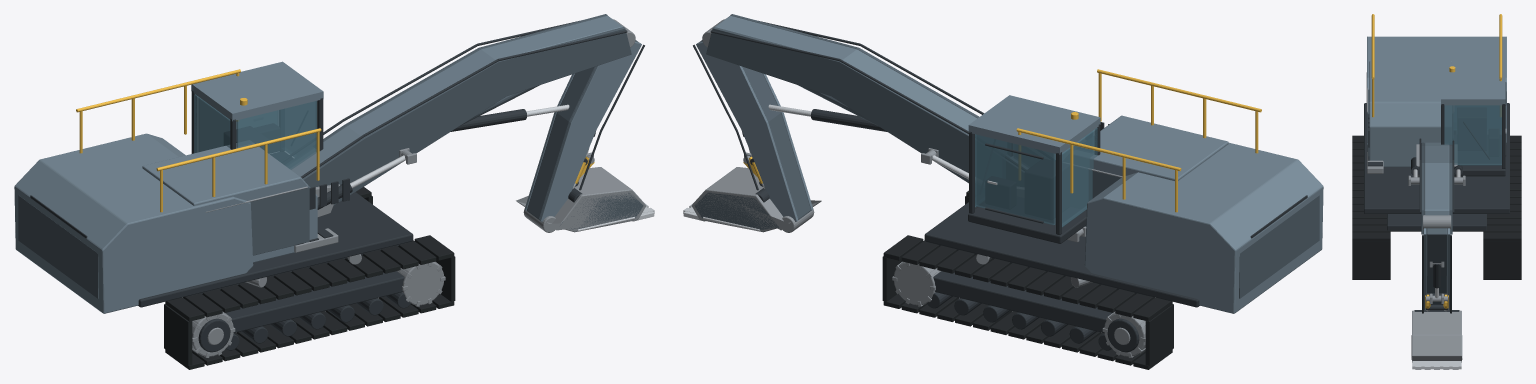
Rendered from komatsu-pc210lc-11-structural-study.glb.
3 views of the same model, side by side, from view 1: azimuth 30°, elevation 25°; view 2: azimuth 150°, elevation 25°; view 3: azimuth 270°, elevation 25° (orthographic). The views are drawn at different scales.
Visible parts, largest first — view 1: Counterweight_Main, Boom_Web_Plate_R, Engine_House, Upper_Main_Deck, Boom_Box_Girder, Stick_Web_Plate_R, Cab_Roof, Track_R_Track_Frame, Counterweight_Rear_Bumper, Cab_R_Glass, Bucket_Shell, Engine_Hood_Service_Panel (+14 smaller); view 2: Counterweight_Main, Boom_Web_Plate_L, Upper_Main_Deck, Engine_House, Cab_L_Glass, Stick_Web_Plate_L, Cab_Roof, Boom_Box_Girder, Track_L_Track_Frame, Counterweight_Rear_Bumper, Bucket_Shell, Cab_Floor (+17 smaller); view 3: Engine_House, Upper_Main_Deck, Counterweight_Main, Cab_Front_Glass, Cab_Roof, Bucket_Shell, Boom_Box_Girder, Track_L_Front_End_Shoe, Track_R_Front_End_Shoe, Carbody, Stick_Box_Girder, Operator_Seat (+24 smaller).
Boxes of the visible parts, x1=… form: Counterweight_Main: x1=14, y1=133, x2=253, y2=313; Boom_Web_Plate_R: x1=302, y1=27, x2=631, y2=205; Engine_House: x1=142, y1=140, x2=317, y2=262; Upper_Main_Deck: x1=138, y1=192, x2=413, y2=307; Boom_Box_Girder: x1=287, y1=15, x2=622, y2=176; Stick_Web_Plate_R: x1=539, y1=42, x2=641, y2=221; Cab_Roof: x1=191, y1=61, x2=323, y2=121; Track_R_Track_Frame: x1=225, y1=271, x2=404, y2=332; Counterweight_Rear_Bumper: x1=18, y1=195, x2=98, y2=298; Cab_R_Glass: x1=236, y1=101, x2=316, y2=169; Bucket_Shell: x1=516, y1=167, x2=646, y2=232; Engine_Hood_Service_Panel: x1=250, y1=186, x2=309, y2=255; Counterweight_Main: x1=1084, y1=142, x2=1323, y2=313; Boom_Web_Plate_L: x1=706, y1=27, x2=1023, y2=186; Upper_Main_Deck: x1=924, y1=201, x2=1199, y2=307; Engine_House: x1=1063, y1=115, x2=1228, y2=226; Cab_L_Glass: x1=975, y1=134, x2=1055, y2=225; Stick_Web_Plate_L: x1=696, y1=42, x2=798, y2=221; Cab_Roof: x1=968, y1=95, x2=1100, y2=154; Boom_Box_Girder: x1=715, y1=15, x2=1027, y2=168; Track_L_Track_Frame: x1=933, y1=271, x2=1112, y2=332; Counterweight_Rear_Bumper: x1=1239, y1=195, x2=1319, y2=298; Bucket_Shell: x1=691, y1=167, x2=821, y2=232; Cab_Floor: x1=968, y1=197, x2=1086, y2=243; Engine_House: x1=1369, y1=61, x2=1451, y2=166; Upper_Main_Deck: x1=1364, y1=103, x2=1509, y2=213; Counterweight_Main: x1=1367, y1=36, x2=1506, y2=144; Cab_Front_Glass: x1=1444, y1=105, x2=1501, y2=165; Cab_Roof: x1=1441, y1=64, x2=1505, y2=105; Bucket_Shell: x1=1412, y1=310, x2=1461, y2=362; Boom_Box_Girder: x1=1424, y1=142, x2=1449, y2=215; Track_L_Front_End_Shoe: x1=1483, y1=241, x2=1521, y2=276; Track_R_Front_End_Shoe: x1=1352, y1=241, x2=1390, y2=276; Carbody: x1=1387, y1=214, x2=1486, y2=231; Stick_Box_Girder: x1=1426, y1=228, x2=1447, y2=304; Operator_Seat: x1=1458, y1=108, x2=1486, y2=150.
Bounding box in the file's own units: 9.71 × 3.13 × 3.08.
